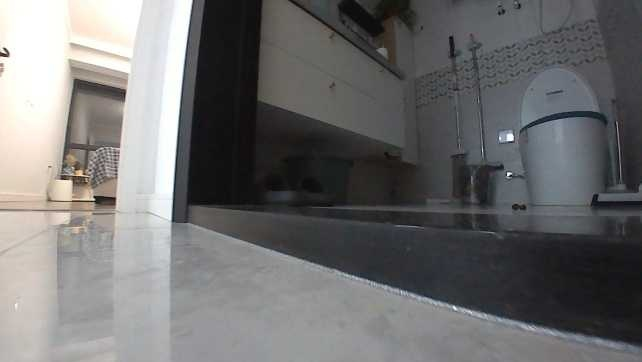door_sill: (185, 201, 637, 350)
toilet: (515, 61, 612, 207)
